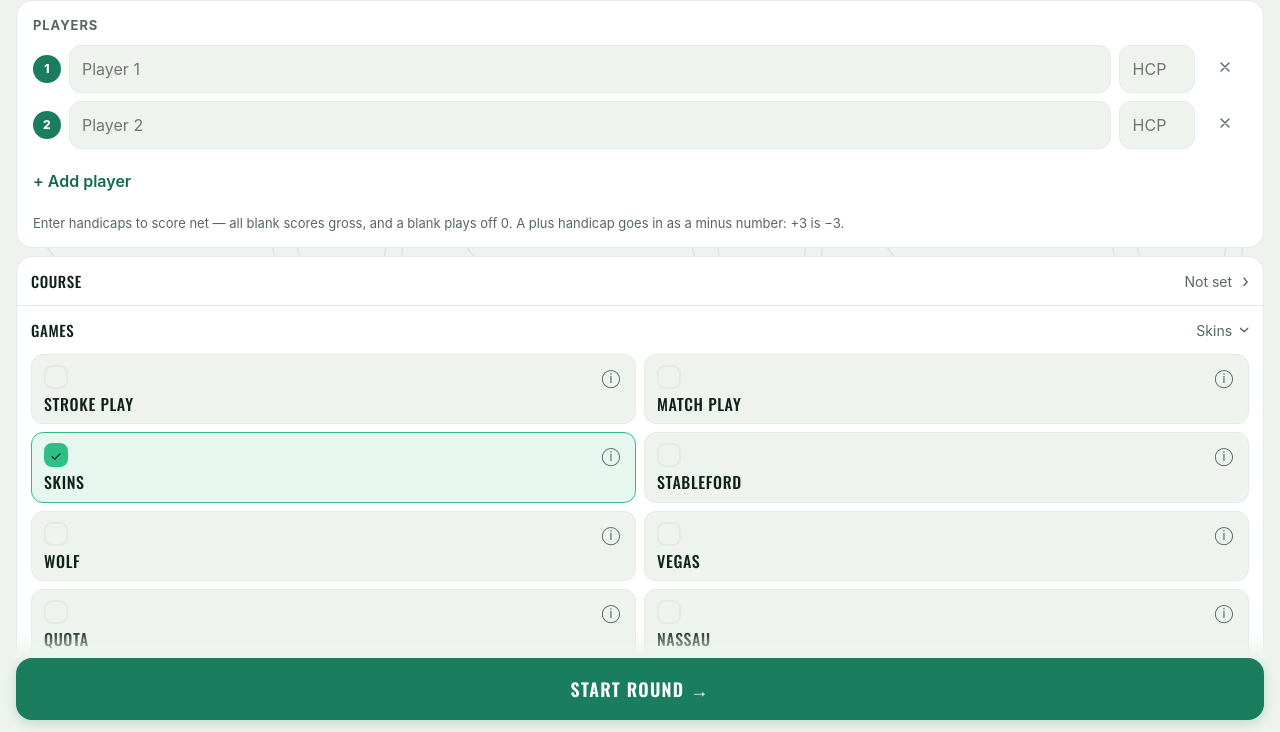
Test: a scorecard the user saved themselves › is shown, but not second-guessed
What coordinates should you click on to do the following:
click the button with class "setup-row-head" showing "Course Not set ›"
I would click on:
 (56, 281)
Its box is left=17, top=257, right=1263, bottom=305.
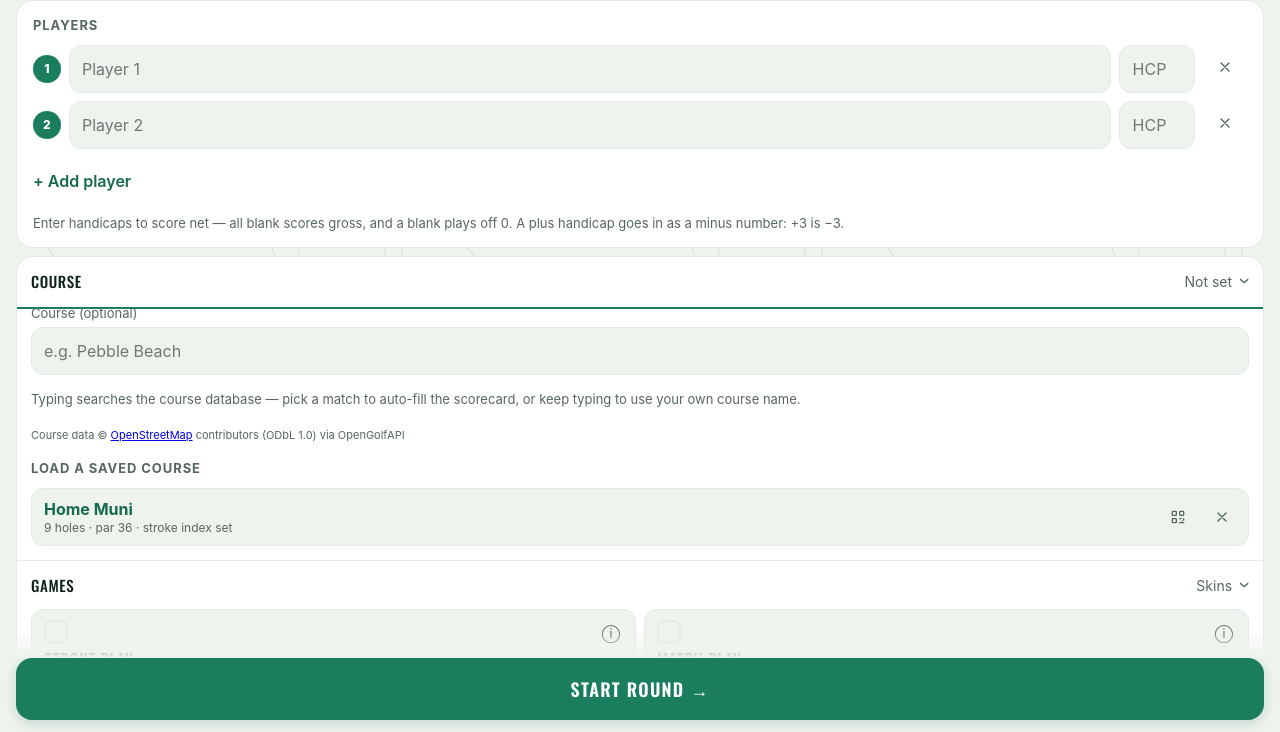
What coordinates should you click on to do the following:
click the text "Home Muni"
I would click on:
 (88, 509)
Its box is left=44, top=499, right=133, bottom=519.
(page scrolled)
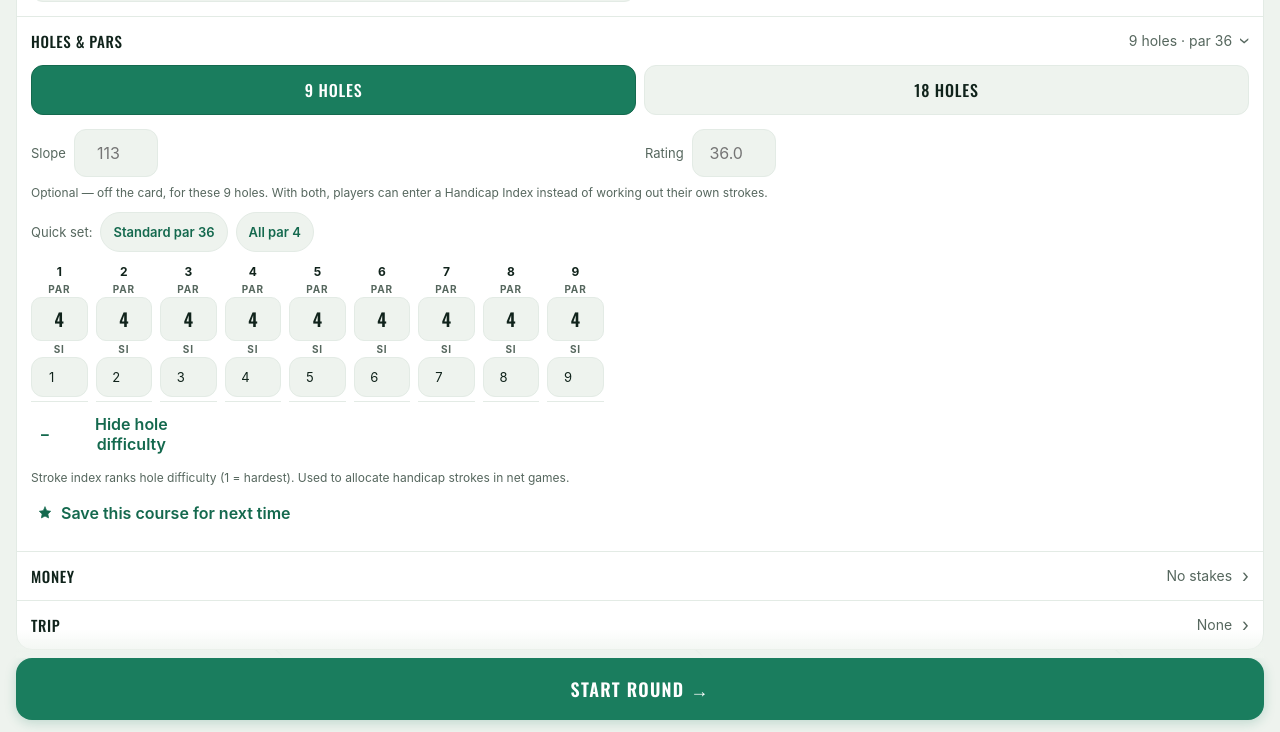
Result: the button named "Par for hole 1: " is shown at left=31, top=297, right=88, bottom=341
